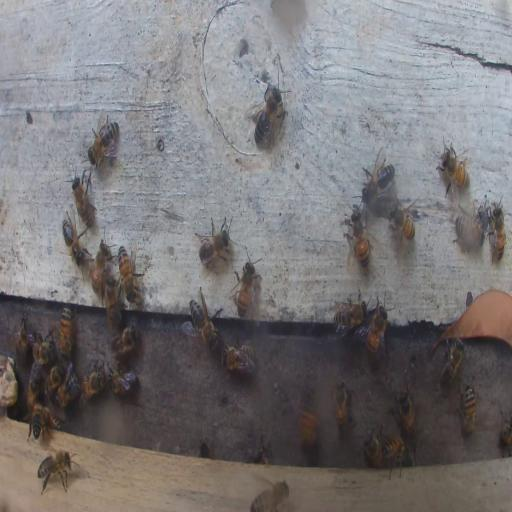bee: (248, 80, 286, 148), (196, 213, 234, 267), (88, 108, 120, 172), (188, 289, 220, 348), (437, 136, 470, 193), (360, 150, 394, 204), (233, 252, 258, 320), (62, 210, 89, 268), (298, 378, 319, 452), (37, 449, 72, 493), (70, 170, 96, 228), (348, 201, 370, 265), (332, 295, 368, 333), (381, 433, 411, 478), (388, 198, 417, 243), (251, 480, 290, 512), (117, 244, 138, 303), (394, 382, 416, 438), (439, 338, 464, 387), (454, 212, 485, 250), (221, 341, 256, 374), (488, 201, 506, 262), (367, 307, 388, 357), (332, 375, 350, 430), (91, 241, 109, 293), (0, 358, 18, 408), (111, 324, 137, 358), (58, 304, 74, 359), (107, 367, 138, 395), (104, 277, 120, 331), (80, 368, 106, 401), (32, 408, 66, 433), (56, 367, 78, 405), (461, 382, 476, 434), (363, 428, 382, 466), (30, 407, 52, 438), (16, 316, 32, 357), (45, 363, 64, 397), (28, 365, 42, 409), (32, 338, 55, 364), (432, 330, 458, 353), (500, 410, 511, 452), (250, 444, 268, 464)
